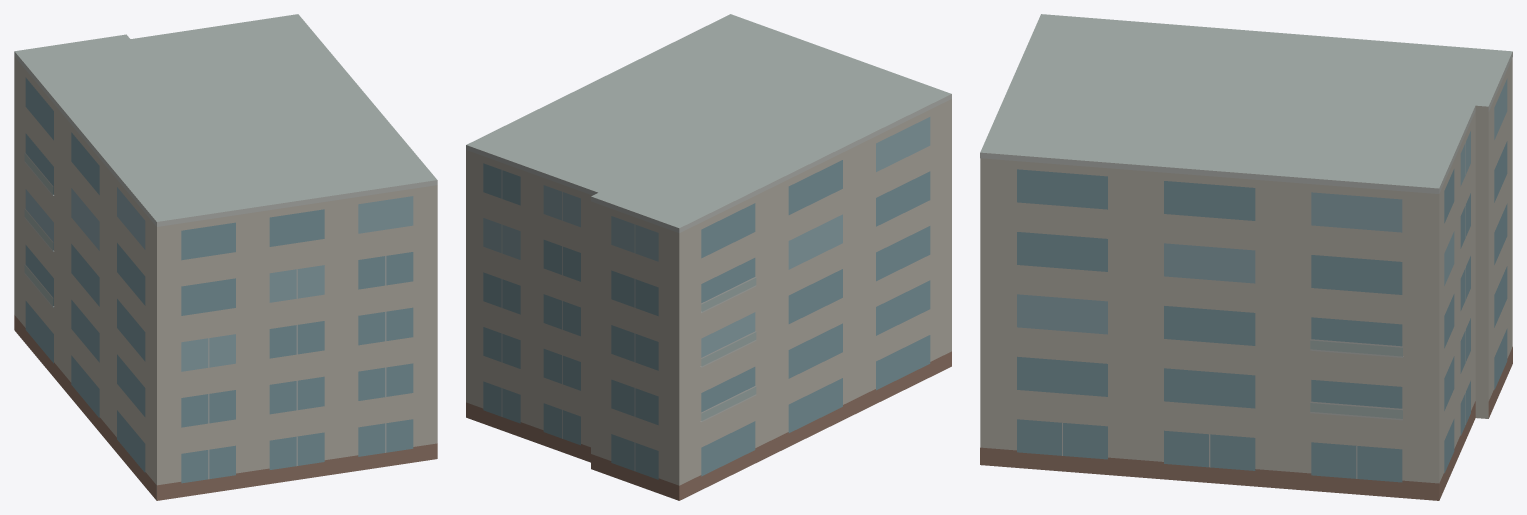
Rendered from survey-upis-32671262.glb.
3 views of the same model, side by side, from view 1: azimuth 30°, elevation 25°; view 2: azimuth 150°, elevation 25°; view 3: azimuth 270°, elevation 25° (orthographic). The views are drawn at different scales.
Visible parts, largest first — view 1: survey-upis-32671262.tmp; view 2: survey-upis-32671262.tmp; view 3: survey-upis-32671262.tmp.
Boxes of the visible parts, x1,y1,x2,y2 form: survey-upis-32671262.tmp: (14,14,437,500); survey-upis-32671262.tmp: (466,14,951,500); survey-upis-32671262.tmp: (980,14,1512,500).
Size of the model in its own units: 16.18 by 13.5 by 20.87.
